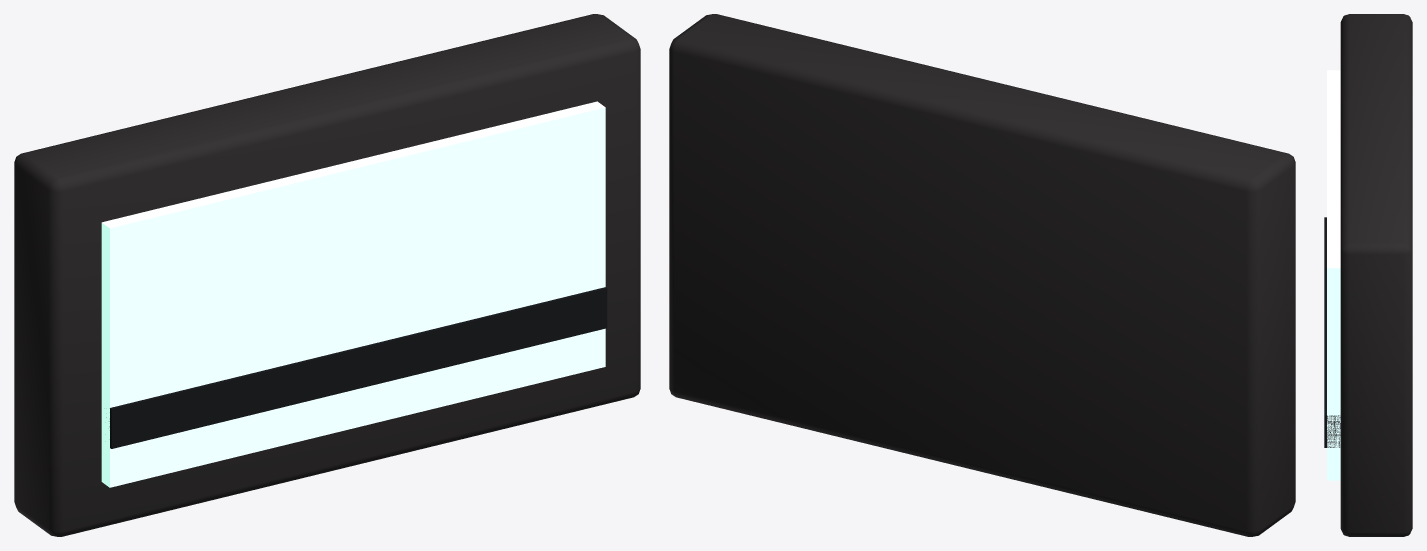
The model's file is cover_light_slot_glow.glb.
The picture shows the model from 3 angles, left to right: view 1: azimuth 30°, elevation 25°; view 2: azimuth 150°, elevation 25°; view 3: azimuth 270°, elevation 25°; orthographic projection. The views are drawn at different scales.
Parts seen in each view (by area): view 1: screen, bezel, dead_band; view 2: bezel; view 3: bezel, screen, dead_band.
Part boxes in pixels (bbox=[...]): screen: bbox=[101, 101, 605, 487]; bezel: bbox=[14, 14, 640, 536]; dead_band: bbox=[106, 287, 607, 448]; bezel: bbox=[669, 14, 1295, 536]; bezel: bbox=[1340, 14, 1412, 536]; screen: bbox=[1327, 70, 1340, 480]; dead_band: bbox=[1324, 217, 1340, 447].
Size of the model in its own units: 0.62 by 0.36 by 0.098.
